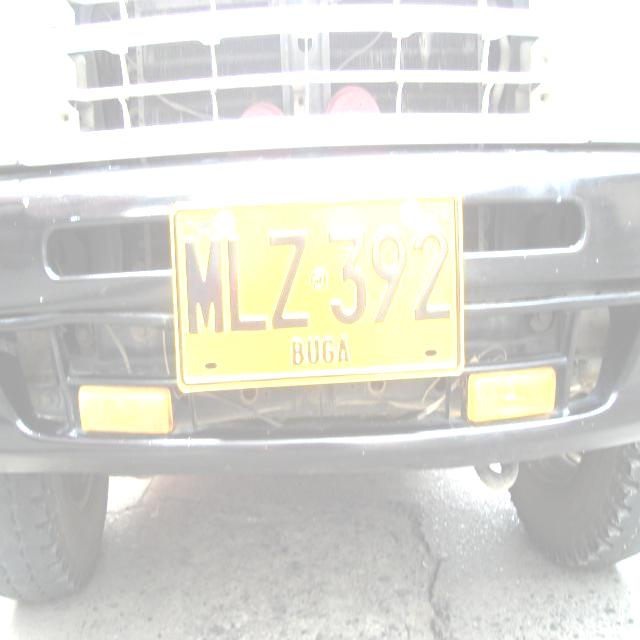placa: (164, 184, 471, 401)
